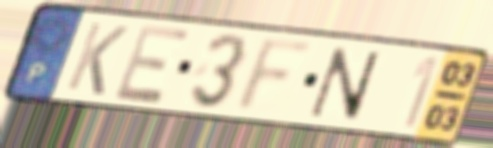1: (401, 53, 444, 132)
3: (181, 31, 253, 111)
E: (111, 22, 196, 107)
F: (229, 35, 321, 117)
K: (62, 19, 132, 99)
N: (307, 44, 384, 124)
